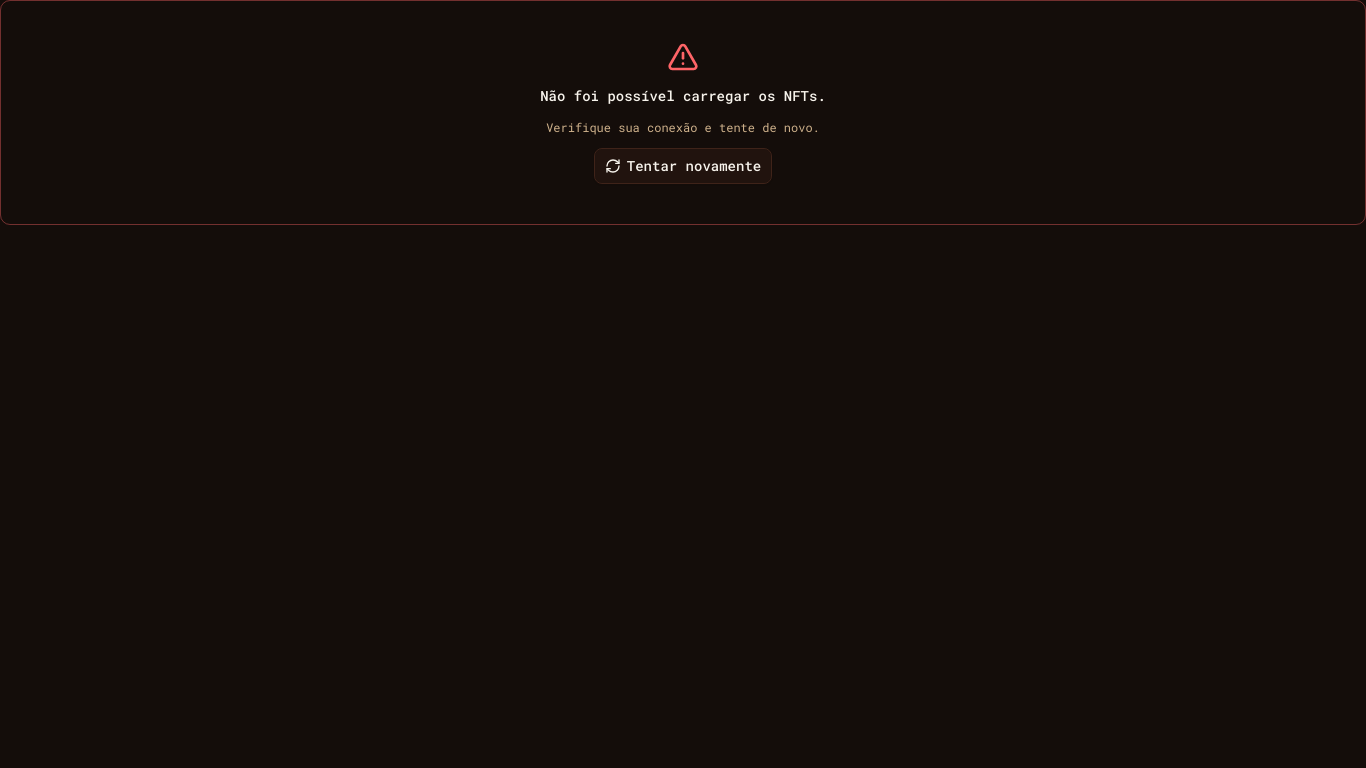
Test: CatalogGrid › erro: durante o retry volta o skeleton (sem dado, a query fica pendente)
The width and height of the screenshot is (1366, 768).
Click the button "Tentar novamente" at x=683, y=166, box [594,148,772,184]
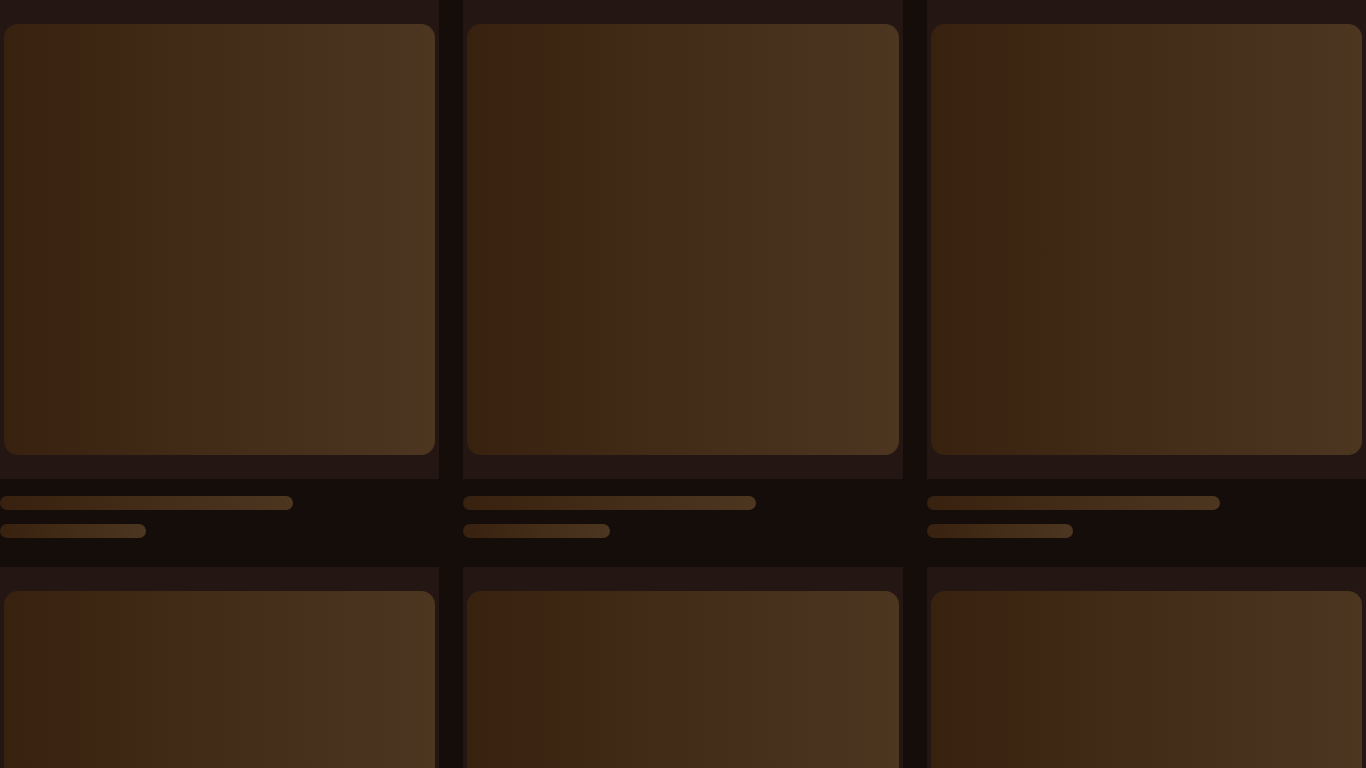
Expected: the message is gone
